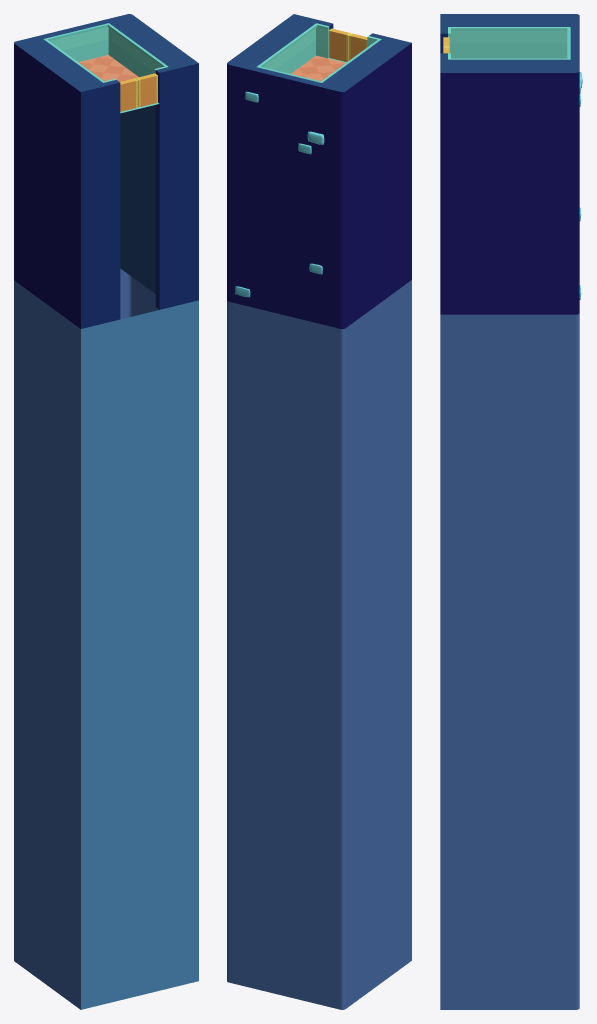
File: Elevator_start_miami.fbx
The picture shows the model from 3 angles, left to right: view 1: azimuth 30°, elevation 25°; view 2: azimuth 150°, elevation 25°; view 3: azimuth 270°, elevation 25°; orthographic projection. The views are drawn at different scales.
Visible parts, largest first — view 1: KIT_0_mesh_stand, KIT_0_mesh_start_end, Cabine_mesh, Door_l, Door_r; view 2: KIT_0_mesh_stand, KIT_0_mesh_start_end, Cabine_mesh, Door_l; view 3: KIT_0_mesh_stand, KIT_0_mesh_start_end, Cabine_mesh.
Boxes of the visible parts, x1,y1,x2,y2 form: KIT_0_mesh_stand: (14, 268, 198, 1009); KIT_0_mesh_start_end: (14, 14, 198, 328); Cabine_mesh: (43, 23, 168, 113); Door_l: (135, 73, 157, 107); Door_r: (120, 78, 137, 111); KIT_0_mesh_stand: (227, 280, 411, 1009); KIT_0_mesh_start_end: (227, 14, 411, 328); Cabine_mesh: (257, 23, 381, 82); Door_l: (328, 28, 350, 62); KIT_0_mesh_stand: (440, 314, 579, 1009); KIT_0_mesh_start_end: (440, 14, 582, 314); Cabine_mesh: (448, 27, 570, 59).
Size of the model in its own units: 900 by 6681 by 920.
